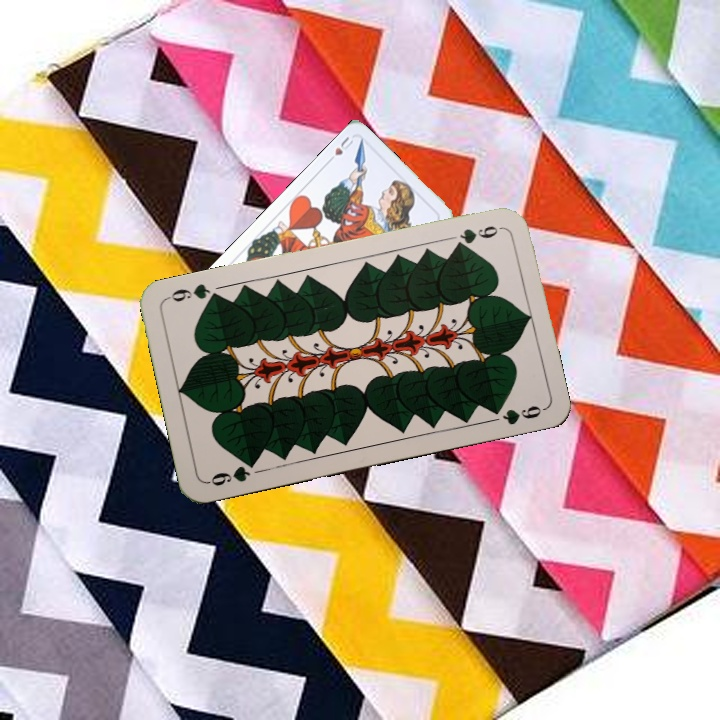G9: (203, 456, 259, 489), (451, 221, 505, 250)
HU: (323, 132, 357, 166)
